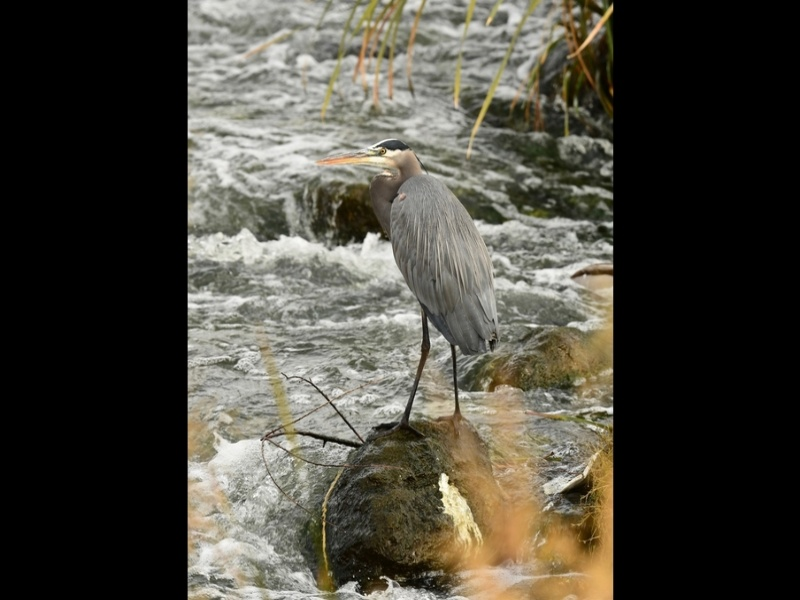heron: (307, 134, 503, 436)
